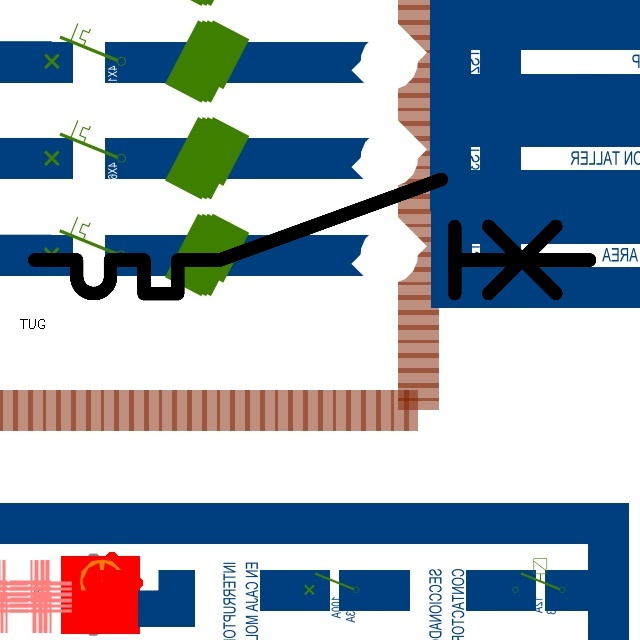interruptor_termomagnetico: (20, 165, 604, 308)
